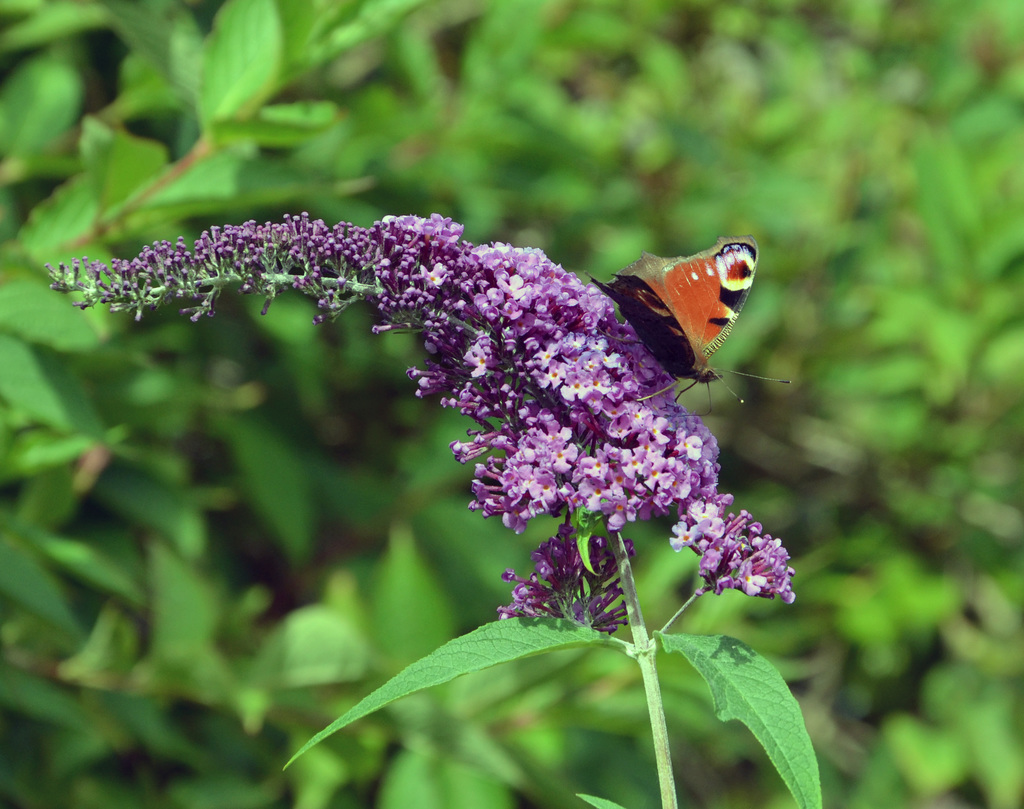Butterfly: (593, 230, 773, 407)
